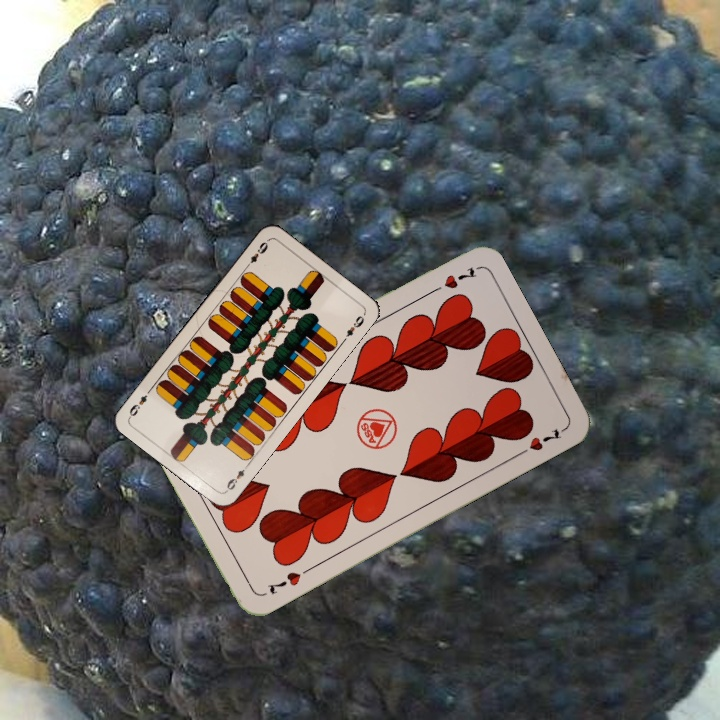E9: (242, 236, 271, 271), (222, 460, 251, 494)
H7: (425, 263, 479, 297), (263, 563, 314, 597)
